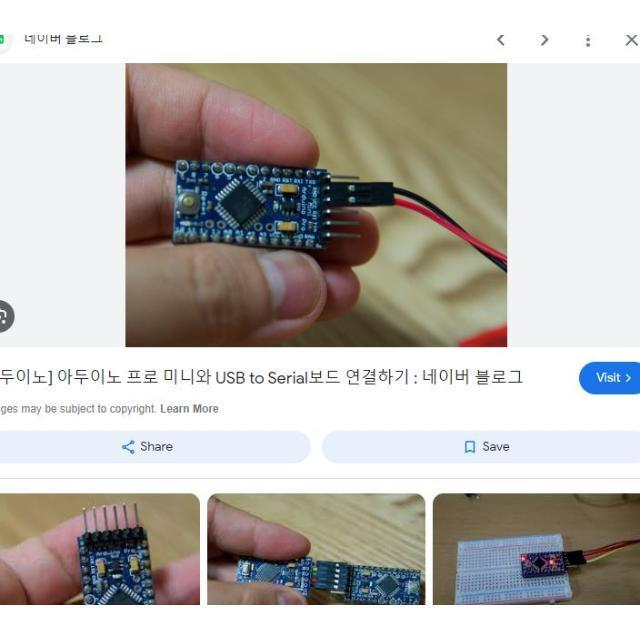Arduino-ProMini: (174, 161, 331, 251)
